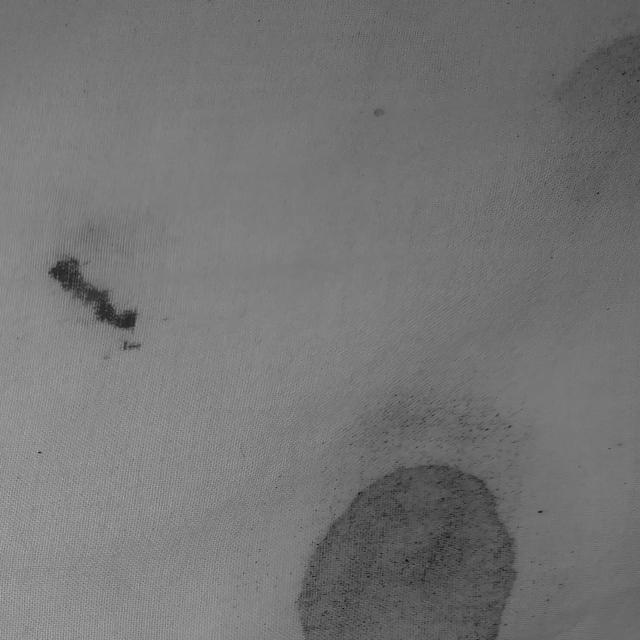Stain: (298, 466, 516, 640), (545, 35, 640, 219), (47, 257, 136, 329), (102, 338, 145, 361), (372, 107, 386, 116)
